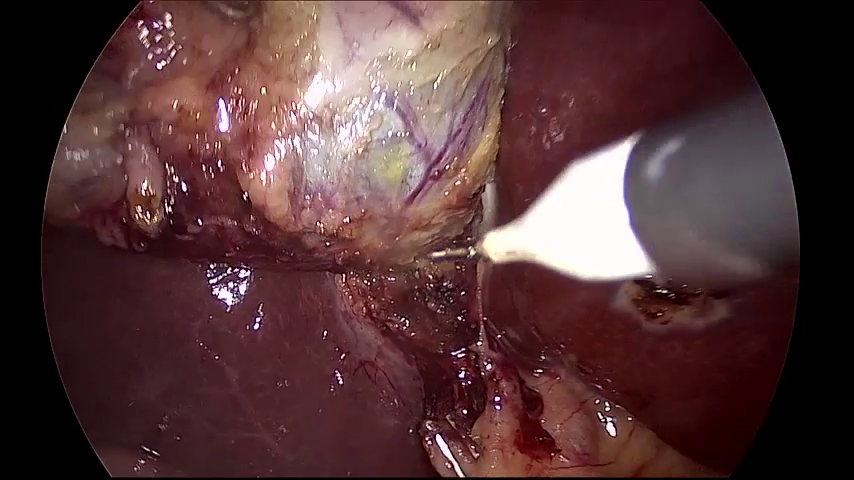lhook: (428, 92, 799, 283)
